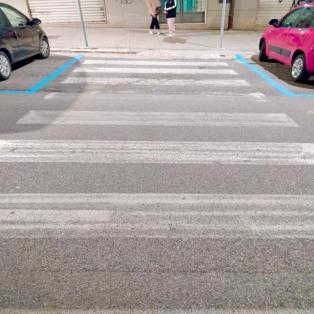Paso de Cebra: (14, 90, 304, 136), (70, 57, 242, 77)
